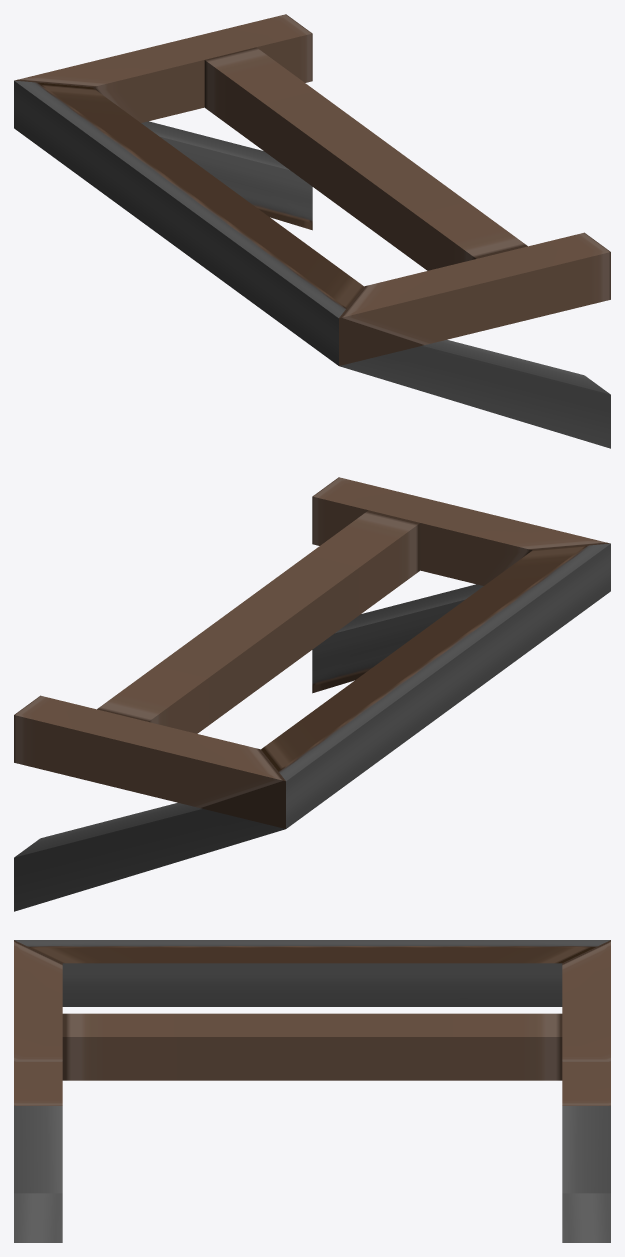
The model's file is Hammer rack.fbx.
3 renders of one model, top to bottom at view 1: azimuth 30°, elevation 25°; view 2: azimuth 150°, elevation 25°; view 3: azimuth 270°, elevation 25°, orthographic. The views are drawn at different scales.
Parts seen in each view (by area): view 1: Cube.050; view 2: Cube.050; view 3: Cube.050.
Boxes of the visible parts, bbox=[...] form: Cube.050: bbox=[14, 14, 610, 448]; Cube.050: bbox=[14, 477, 610, 911]; Cube.050: bbox=[14, 940, 610, 1242].
Bounding box in the file's own units: 96.74 × 66.86 × 200.
